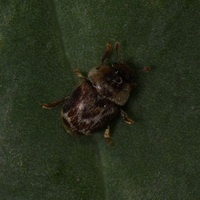insect: (40, 42, 135, 134)
